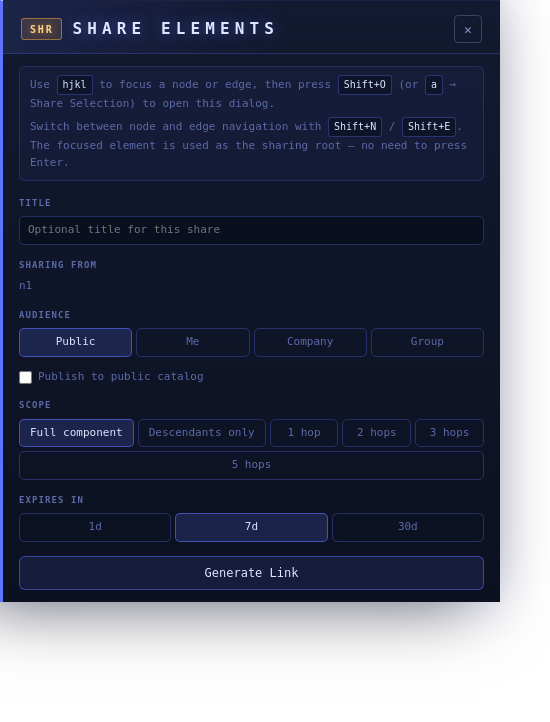
Test: ElementShareDialog – generate flow › shows an error message when the API returns no token
The image size is (550, 722).
Click the button with test id "generate-btn" at (252,573), box [19,556,484,590]
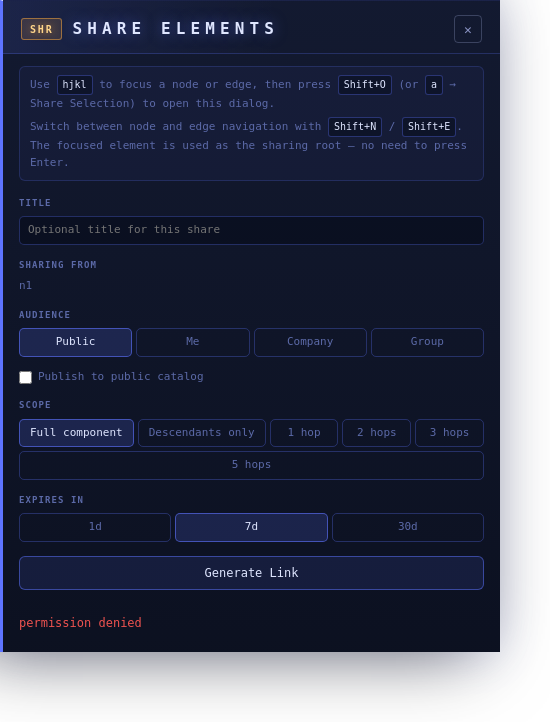
Expected: the text "permission denied" is shown, [19,616,142,630]
